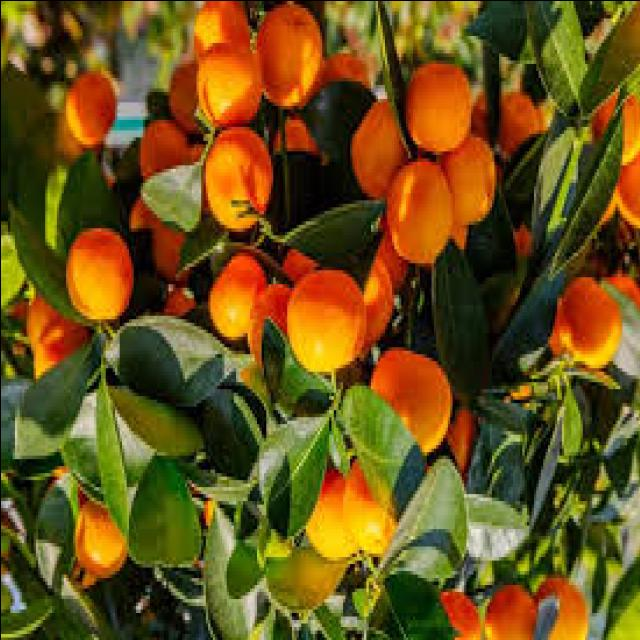orange: (44, 218, 136, 328), (284, 274, 368, 380)
